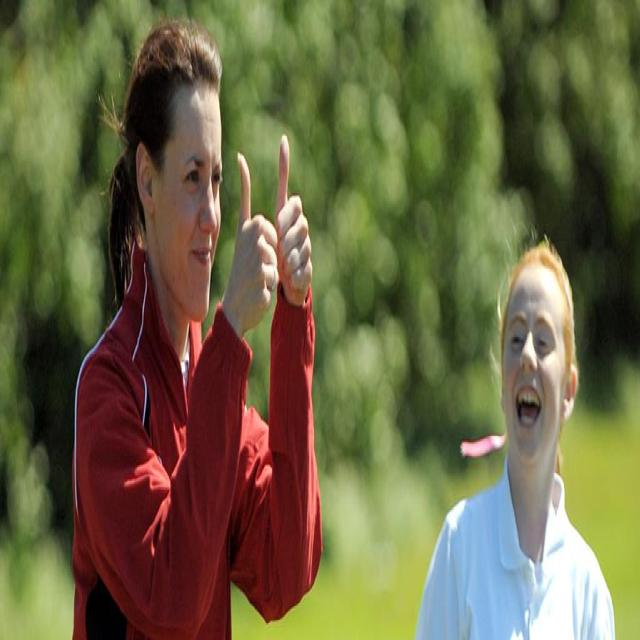Face: (166, 67, 225, 331), (504, 262, 564, 467)
